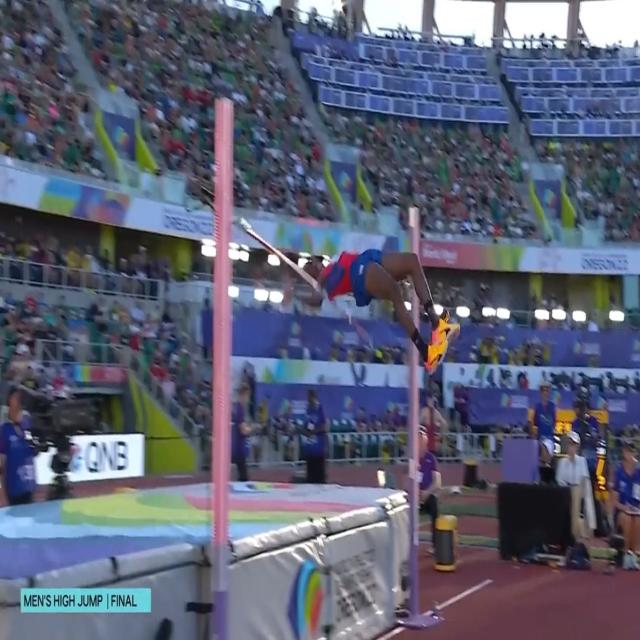jump: (292, 252, 460, 374)
